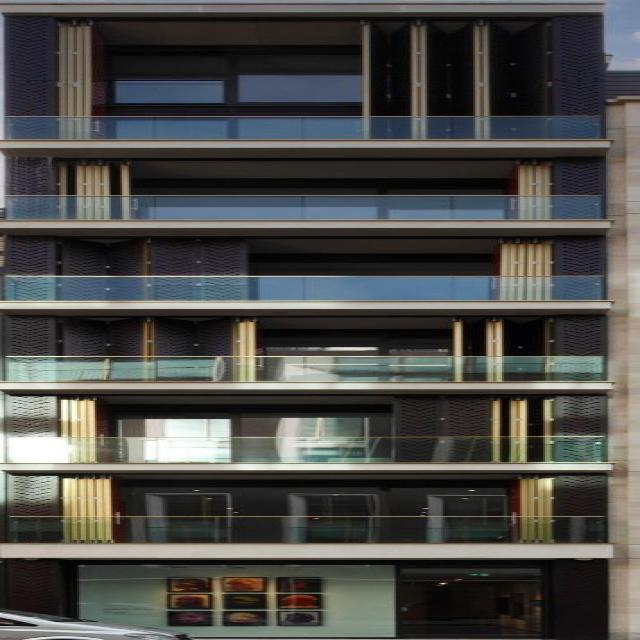Railing: (1, 114, 611, 140), (2, 192, 612, 218), (1, 275, 611, 301), (0, 356, 610, 382), (5, 437, 615, 463), (0, 516, 610, 542)
door: (393, 567, 551, 639)
wall: (0, 1, 638, 640)
windows: (130, 484, 514, 516), (119, 73, 367, 103), (114, 411, 387, 436), (264, 334, 456, 356), (256, 260, 504, 275)
